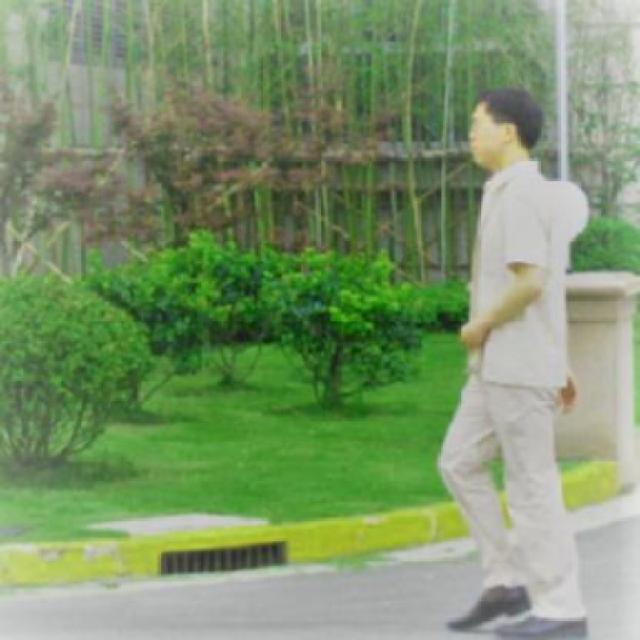Person: (432, 81, 594, 638)
